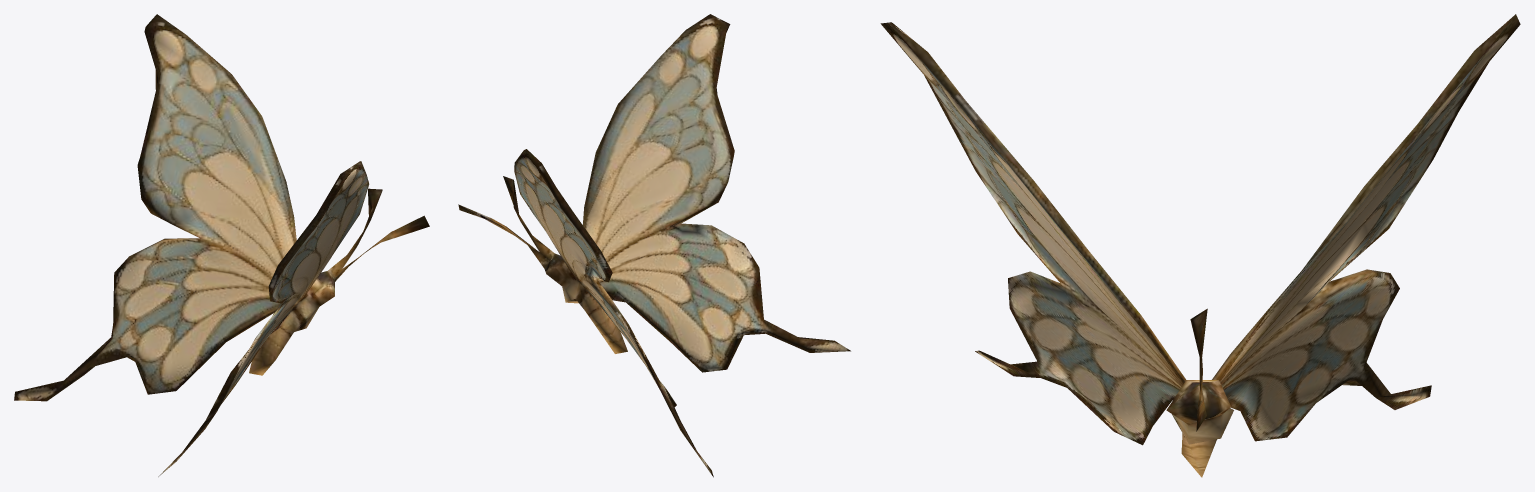
File: mucha_butterfly.glb
The picture shows the model from 3 angles, left to right: view 1: azimuth 30°, elevation 25°; view 2: azimuth 150°, elevation 25°; view 3: azimuth 270°, elevation 25°; orthographic projection. The views are drawn at different scales.
Parts seen in each view (by area): view 1: tripo_node_7b79bed1-6ed3-4fcd-beb7-bbcad96ff353.001; view 2: tripo_node_7b79bed1-6ed3-4fcd-beb7-bbcad96ff353.001; view 3: tripo_node_7b79bed1-6ed3-4fcd-beb7-bbcad96ff353.001.
Part boxes in pixels (x1=…): tripo_node_7b79bed1-6ed3-4fcd-beb7-bbcad96ff353.001: x1=14, y1=14, x2=429, y2=476; tripo_node_7b79bed1-6ed3-4fcd-beb7-bbcad96ff353.001: x1=458, y1=14, x2=850, y2=477; tripo_node_7b79bed1-6ed3-4fcd-beb7-bbcad96ff353.001: x1=880, y1=14, x2=1520, y2=477.
Bounding box in the file's own units: 0.9548 × 0.8651 × 0.9768.
1 material, 1 textured.
